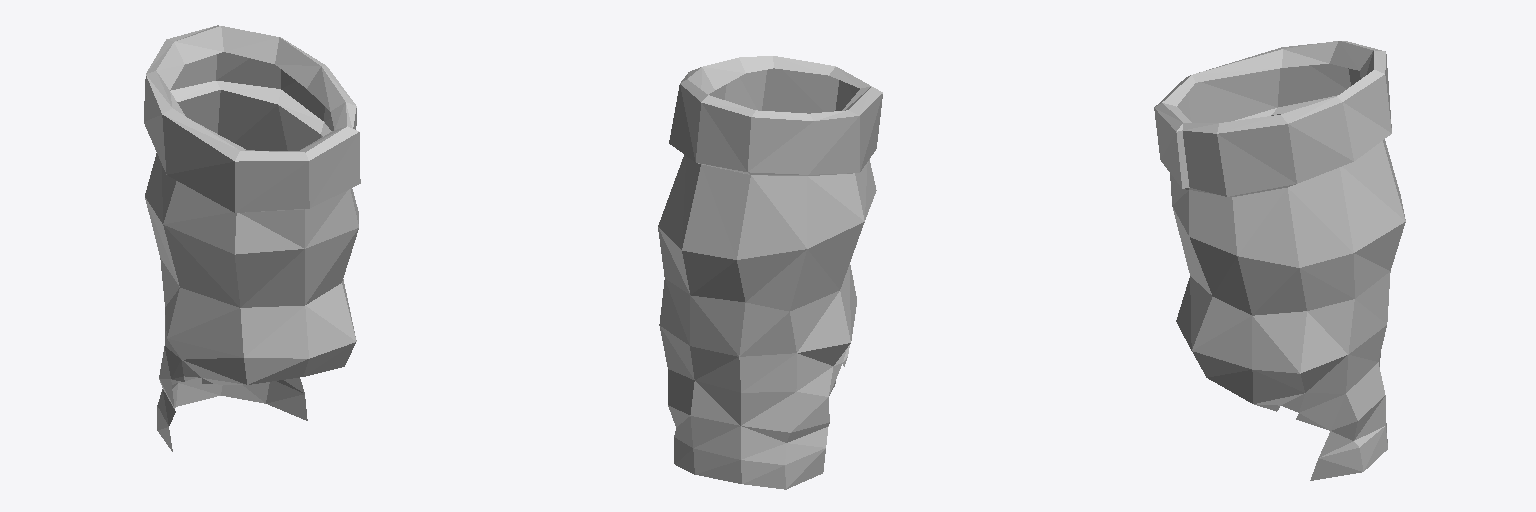
File: hg_lleg.obj
3 views of the same model, side by side, from view 1: azimuth 30°, elevation 25°; view 2: azimuth 150°, elevation 25°; view 3: azimuth 270°, elevation 25° (orthographic).
Visible parts, largest first — view 1: studio.helghast_assault_medium.smd.mesh_0.006; view 2: studio.helghast_assault_medium.smd.mesh_0.006; view 3: studio.helghast_assault_medium.smd.mesh_0.006.
Boxes of the visible parts, x1=… form: studio.helghast_assault_medium.smd.mesh_0.006: x1=144, y1=25, x2=360, y2=451; studio.helghast_assault_medium.smd.mesh_0.006: x1=658, y1=56, x2=882, y2=489; studio.helghast_assault_medium.smd.mesh_0.006: x1=1154, y1=41, x2=1405, y2=480.
Bounding box in the file's own units: 8.76 × 16.99 × 10.07.